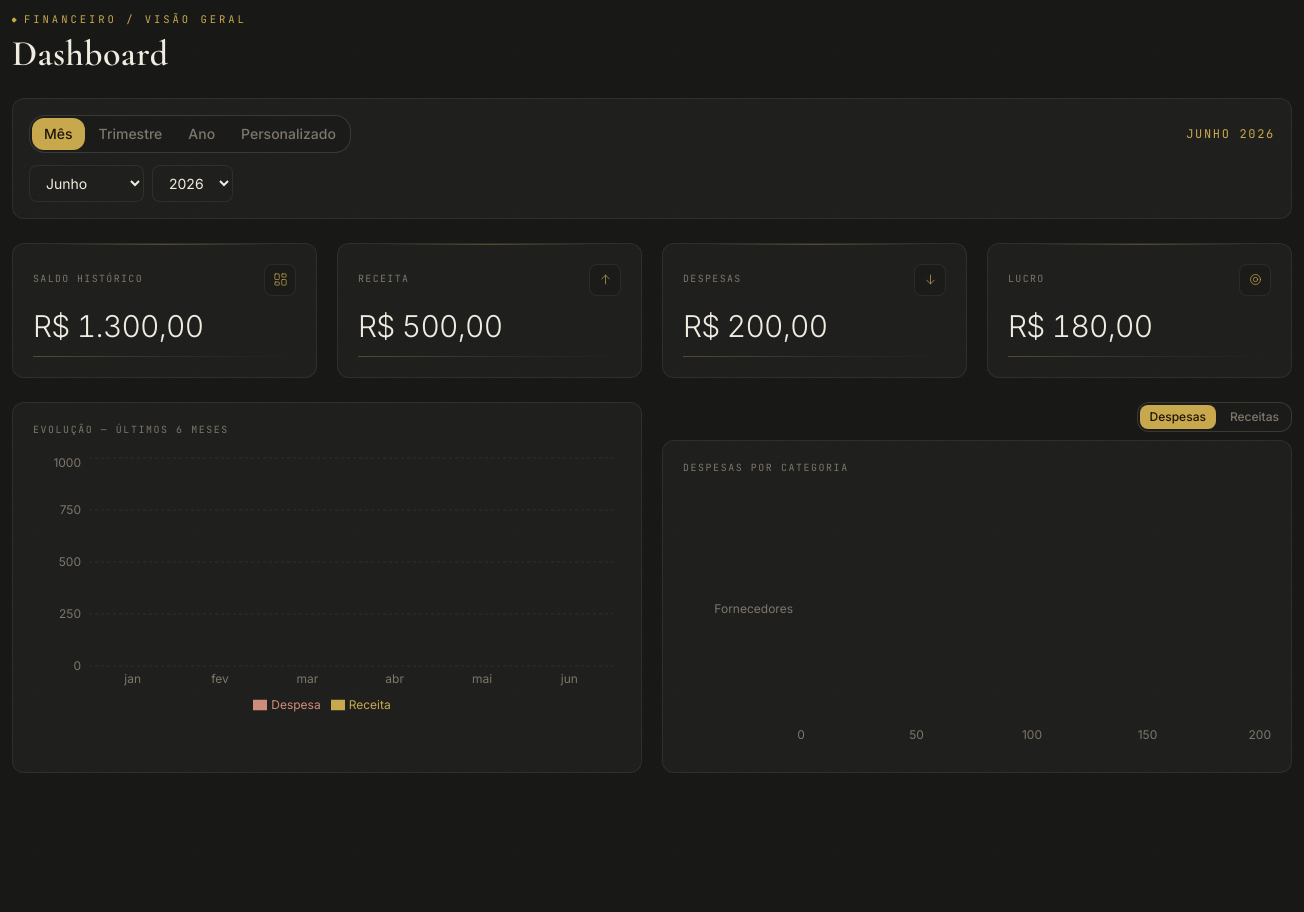
FinDashboard › trocar para o ano inteiro desconta custo das vendas concluidas do lucro
Check: the text "R$ 180,00" is shown, box [1008, 308, 1152, 344]
Click the button "Ano": [202, 134] box [176, 118, 227, 150]
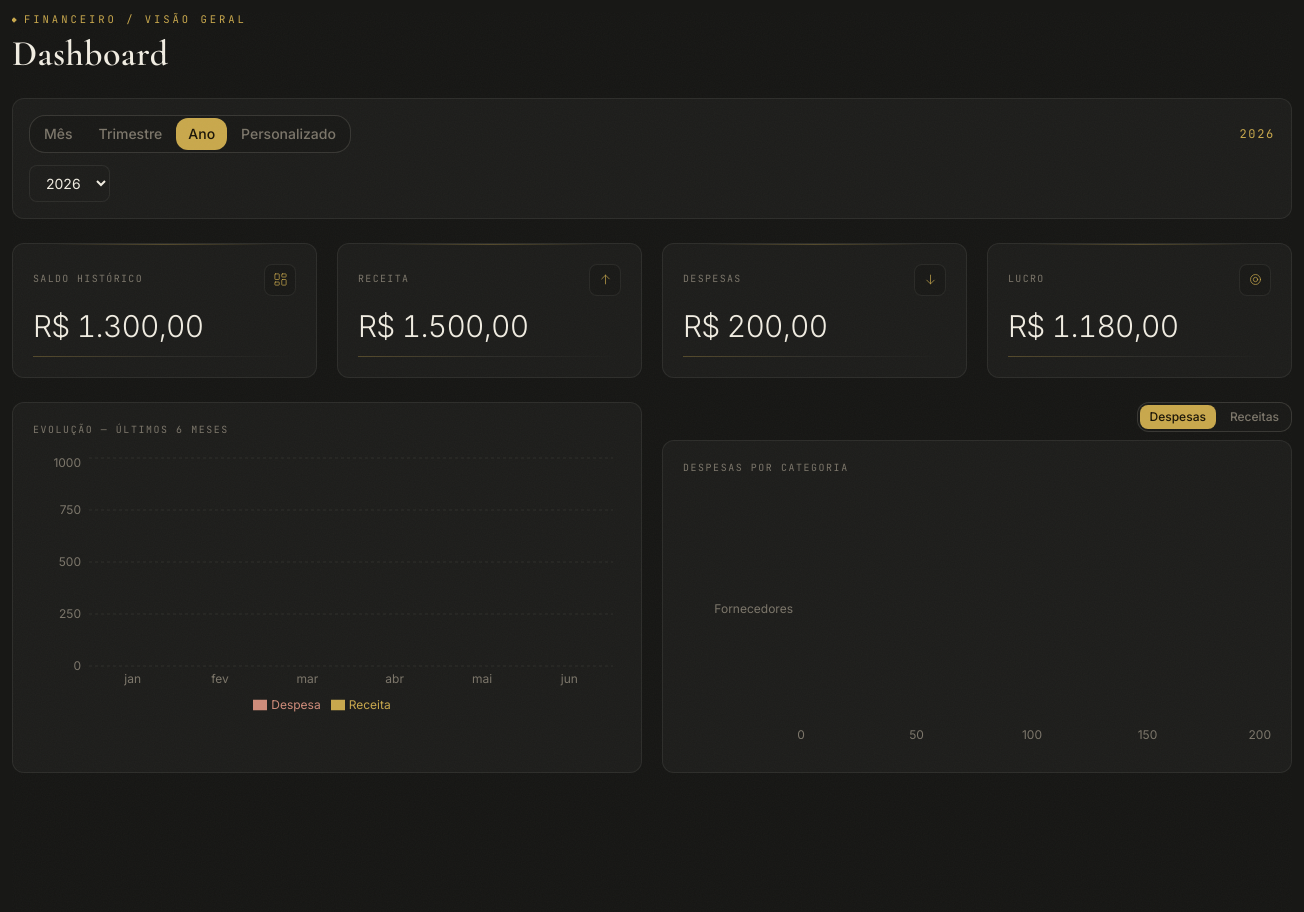
Check: the text "R$ 1.500,00" is shown, box [358, 308, 528, 344]
Check: the text "R$ 1.180,00" is shown, box [1008, 308, 1178, 344]
